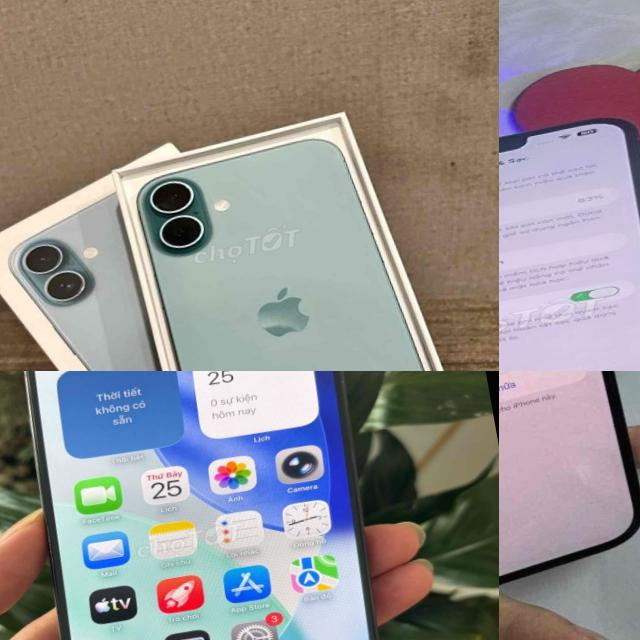gen_12_13: (499, 93, 640, 371), (499, 371, 640, 634)
gen_15: (0, 371, 419, 640)
gen_16: (117, 119, 465, 371)
